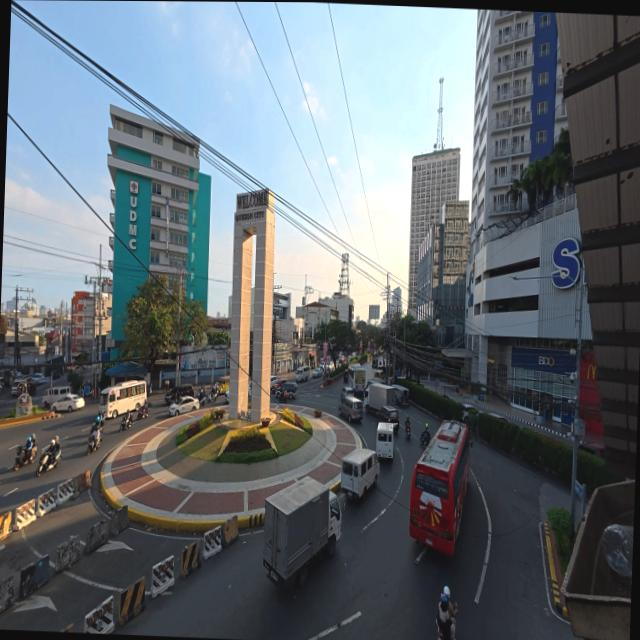bus: (410, 421, 470, 554), (99, 381, 147, 418), (346, 363, 366, 400)
car: (169, 396, 199, 416), (52, 394, 85, 412), (165, 384, 194, 404), (378, 406, 399, 433), (579, 443, 604, 457), (277, 382, 297, 399), (270, 378, 288, 394), (463, 403, 478, 419), (488, 412, 509, 423), (341, 387, 353, 400), (312, 367, 323, 377), (31, 373, 43, 382), (51, 370, 61, 378), (270, 376, 277, 387), (225, 390, 229, 403), (372, 359, 377, 368)
motorcycle: (36, 449, 61, 477), (14, 446, 36, 470), (87, 432, 101, 455), (435, 619, 451, 639), (206, 390, 220, 403), (420, 430, 431, 446), (436, 620, 445, 639), (120, 417, 131, 432), (137, 406, 148, 420), (92, 420, 104, 432), (197, 388, 207, 401), (406, 425, 411, 439)
trucks: (264, 477, 341, 585), (365, 383, 395, 414)
vans: (341, 449, 380, 498), (376, 423, 394, 459), (339, 396, 363, 422), (43, 386, 71, 406), (12, 379, 27, 396), (295, 366, 310, 381)
